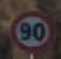limite 90: (11, 11, 53, 52)
